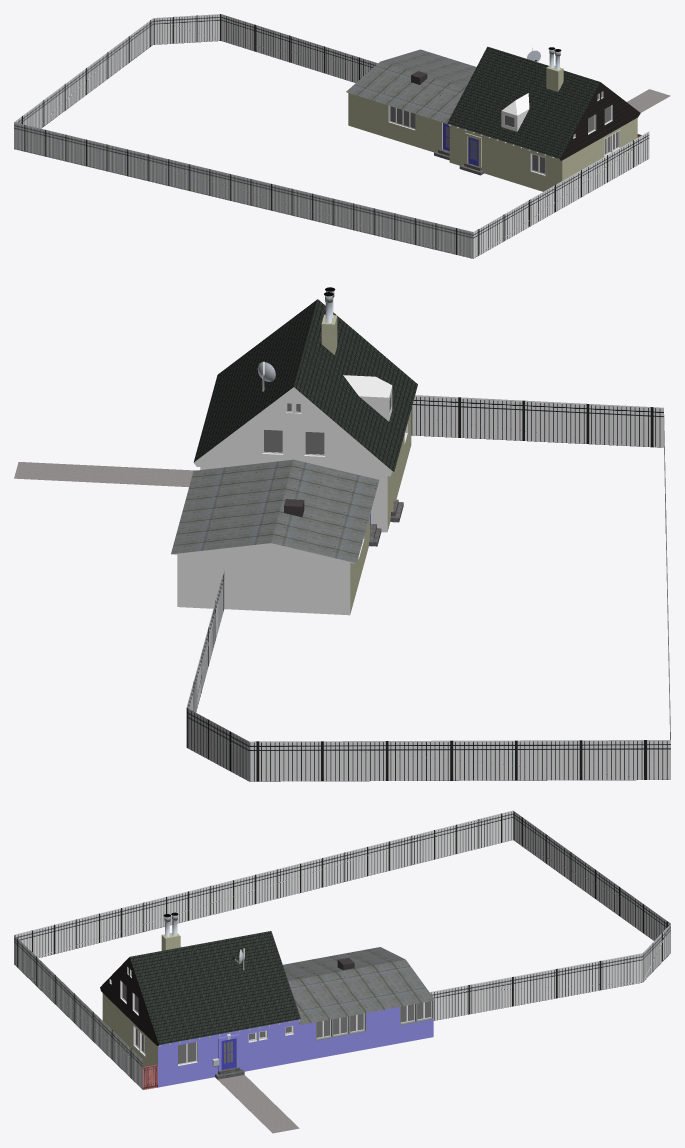
File: universitaetskindergarten.gltf
3 views of the same model, one above another, from view 1: azimuth 30°, elevation 25°; view 2: azimuth 150°, elevation 25°; view 3: azimuth 270°, elevation 25° (orthographic). The views are drawn at different scales.
Visible parts, largest first — view 1: Sketchup; view 2: Sketchup; view 3: Sketchup.
Boxes of the visible parts, x1,y1,x2,y2 form: Sketchup: (14, 14, 670, 258); Sketchup: (14, 287, 670, 781); Sketchup: (14, 810, 670, 1133).
Bounding box in the file's own units: 42.35 × 8.86 × 40.09.
19 materials, 12 textured.
